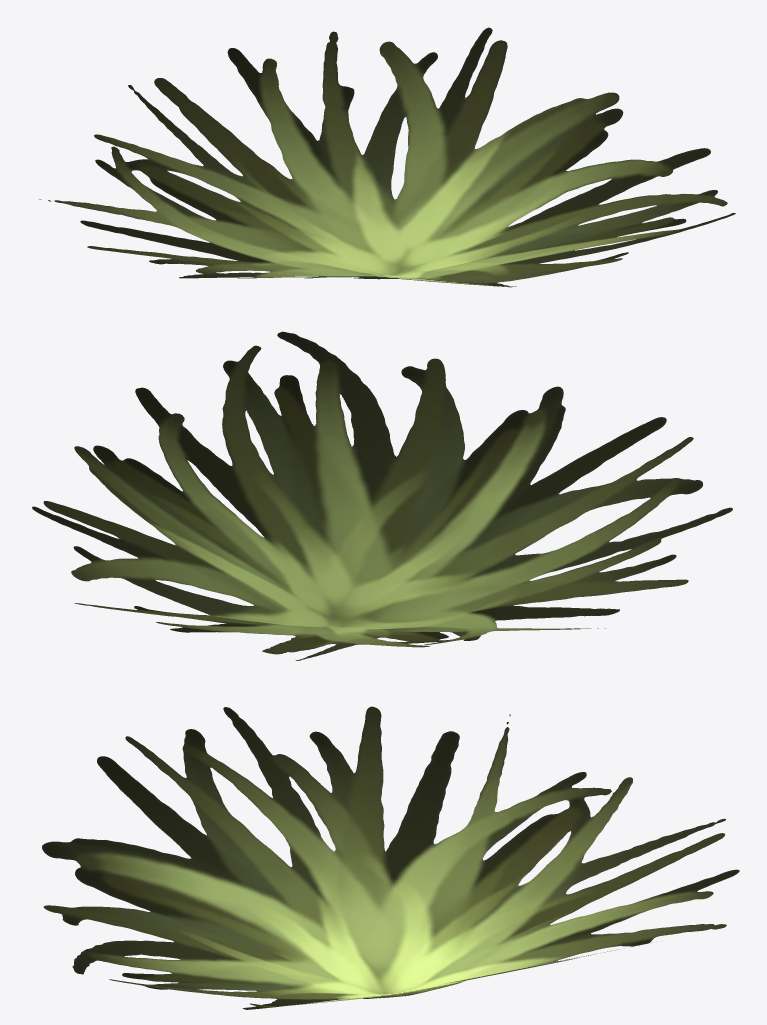
Rendered from painted-grass-001.glb.
The picture shows the model from 3 angles, top to bottom: view 1: azimuth 30°, elevation 25°; view 2: azimuth 150°, elevation 25°; view 3: azimuth 270°, elevation 25°; orthographic projection. The views are drawn at different scales.
Size of the model in its own units: 7.56 by 1.75 by 7.48.
Materials: 1 (1 with a texture image).
